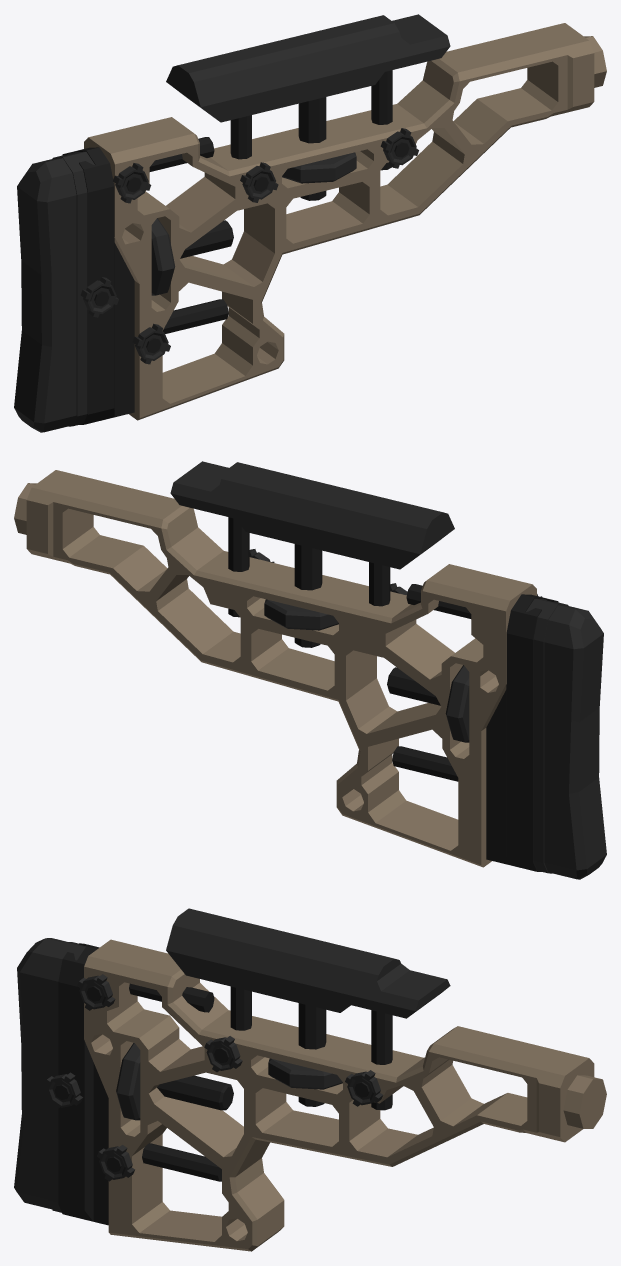
File: c14_timberwolf_stock.glb
3 renders of one model, top to bottom at view 1: azimuth 30°, elevation 25°; view 2: azimuth 150°, elevation 25°; view 3: azimuth 330°, elevation 25°, orthographic.
Visible parts, largest first — view 1: c14 stock_11 (×3); view 2: c14 stock_11 (×3); view 3: c14 stock_11 (×3).
Boxes of the visible parts, box(x1,y1,x2,y2) form: c14 stock_11 (×3): box(14, 14, 606, 432); c14 stock_11 (×3): box(14, 461, 606, 879); c14 stock_11 (×3): box(14, 908, 606, 1251).
Size of the model in its own units: 2.83 by 1.55 by 0.3923.
